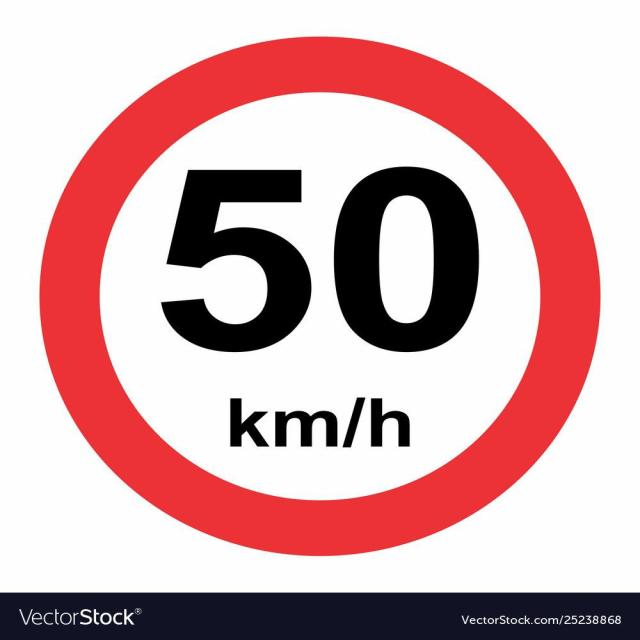speed_limit_50: (42, 38, 598, 558)
